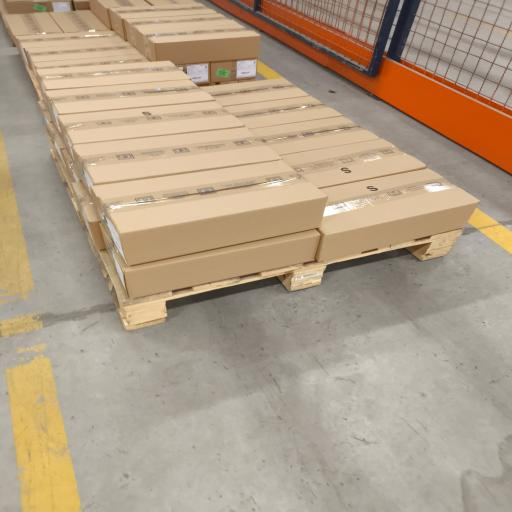pallet: (47, 130, 462, 330), (52, 149, 462, 330), (98, 230, 462, 330)
